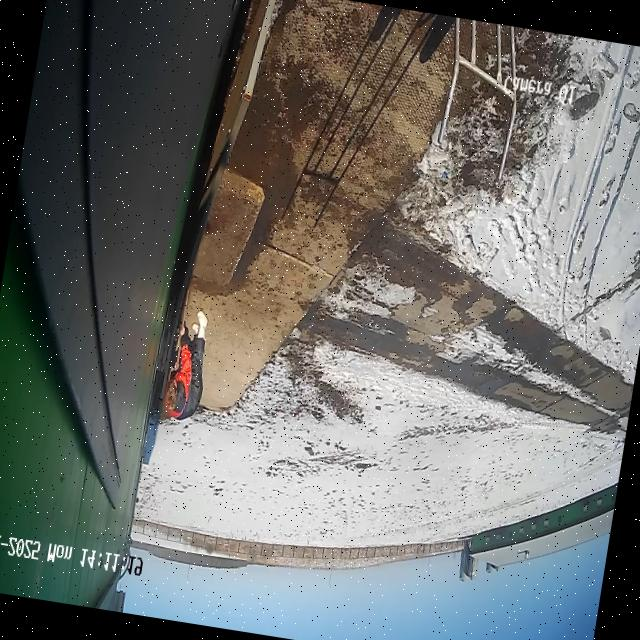Red uniform: (163, 310, 207, 420)
